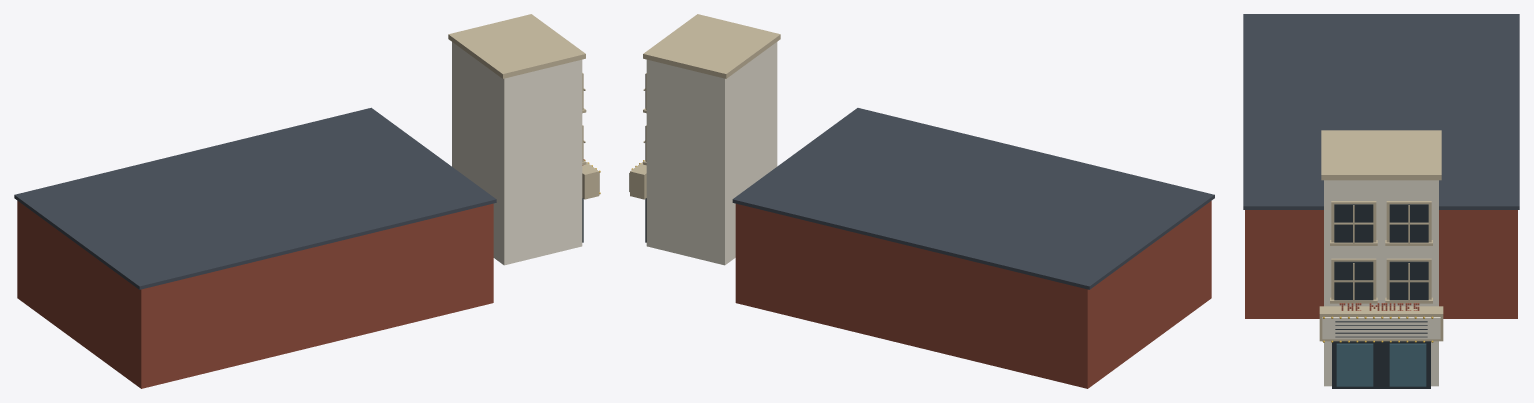
Rendered from the-movies.glb.
3 renders of one model, left to right at view 1: azimuth 30°, elevation 25°; view 2: azimuth 150°, elevation 25°; view 3: azimuth 270°, elevation 25°, orthographic. The views are drawn at different scales.
Visible parts, largest first — view 1: the-movies; view 2: the-movies; view 3: the-movies.
Part boxes in pixels (box(x1,y1,x2,y2)): the-movies: box(14, 14, 600, 388); the-movies: box(629, 14, 1214, 388); the-movies: box(1243, 14, 1519, 388).
Size of the model in its own units: 37.96 by 14.05 by 16.55.
